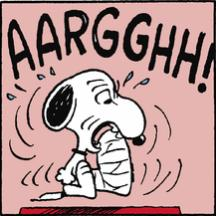snoopy: (31, 68, 148, 202)
